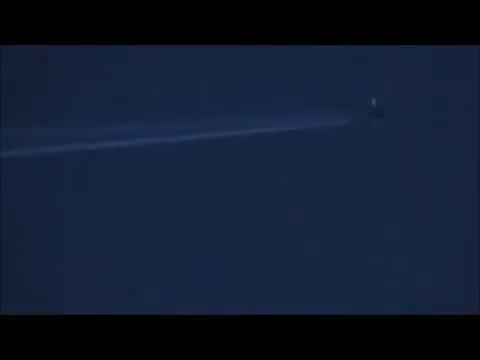Plane: (58, 89, 408, 166)
